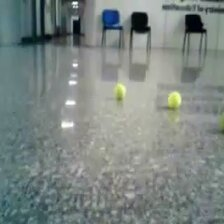tennis: (166, 90, 182, 108), (113, 83, 127, 97)
